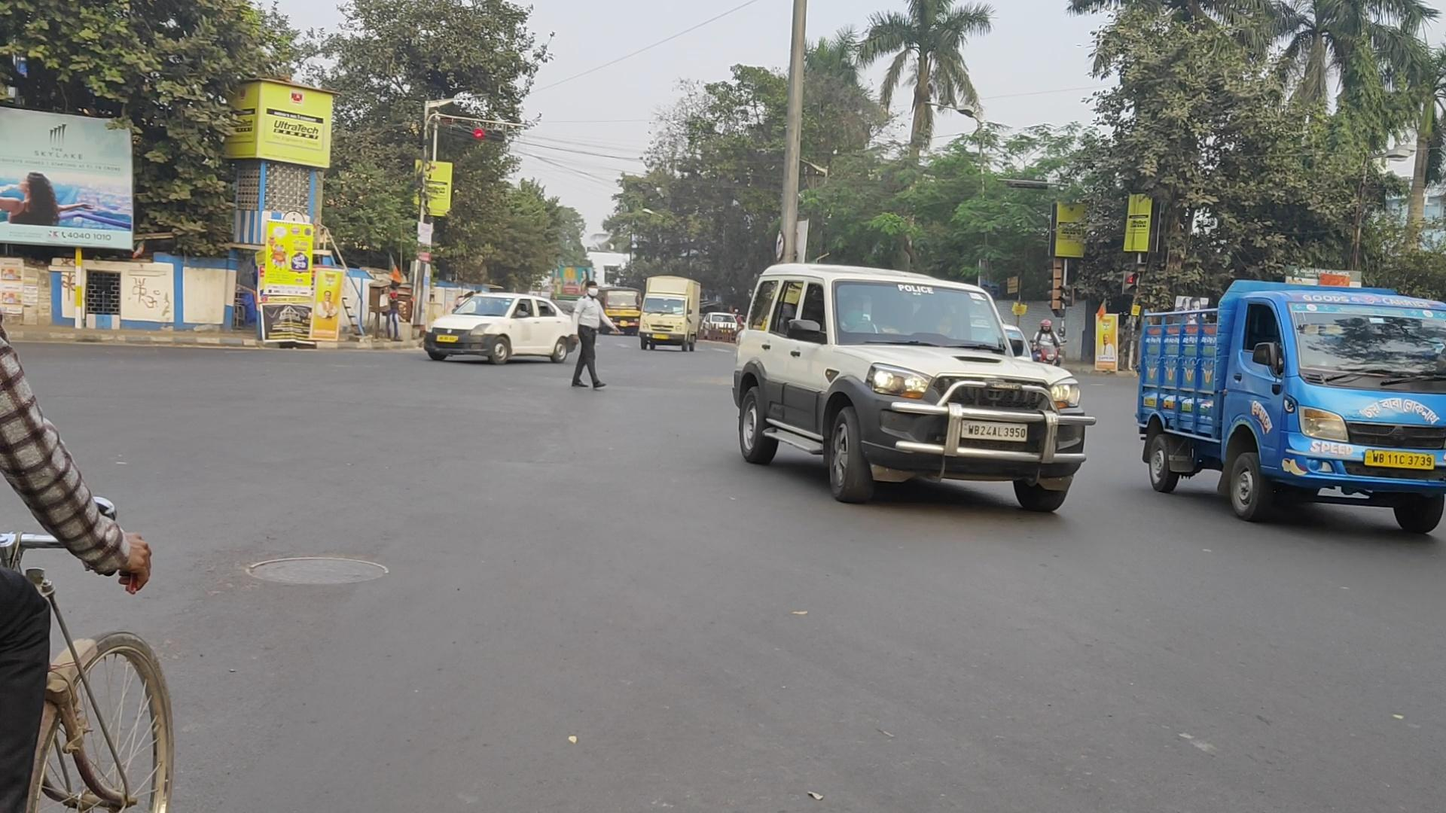Bus: (596, 287, 642, 336)
bike: (1030, 319, 1067, 385)
car: (733, 263, 1096, 512), (423, 293, 578, 366), (700, 312, 740, 341)
van: (1134, 279, 1446, 534), (639, 276, 700, 352)
